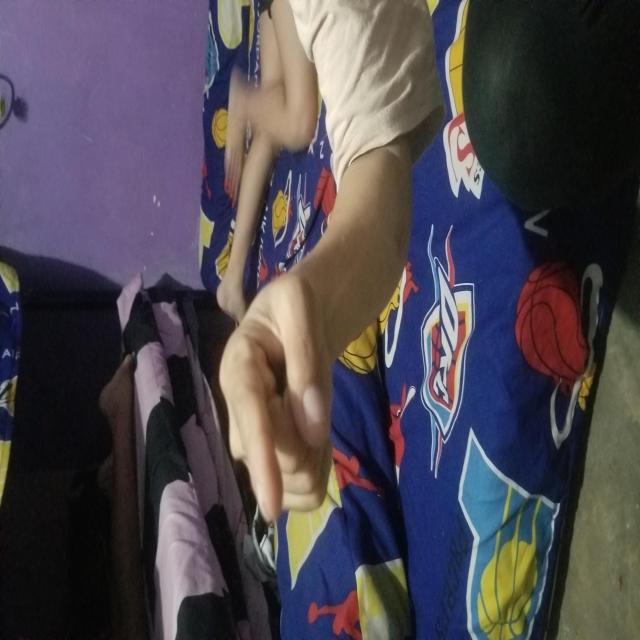Z: (114, 222, 368, 336)
